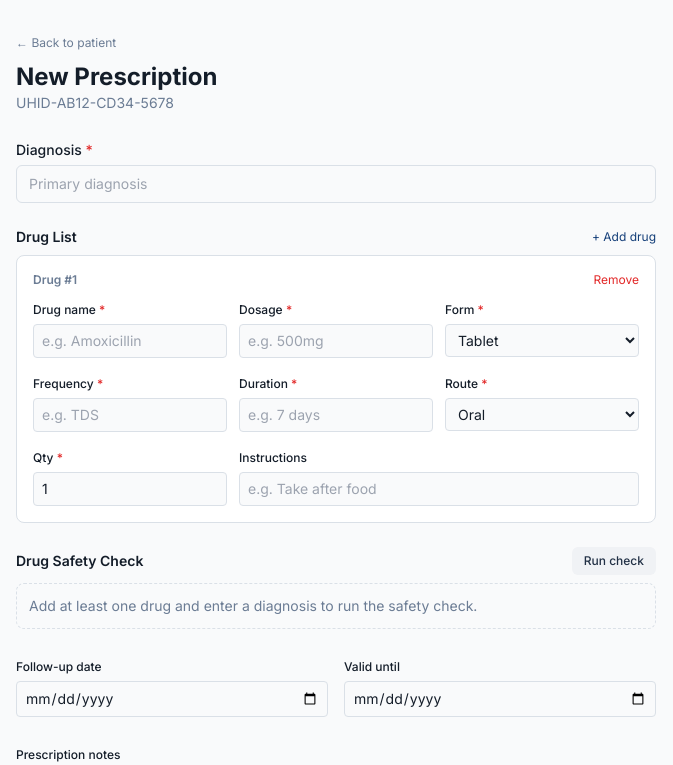
it: NewPrescriptionPage — Pharma-check with issues › shows pharma-issues strip when issues are returned
Type "Warfarin" into the field with test id "drug-name-0". click: (130, 341)
box: [33,324,227,358]
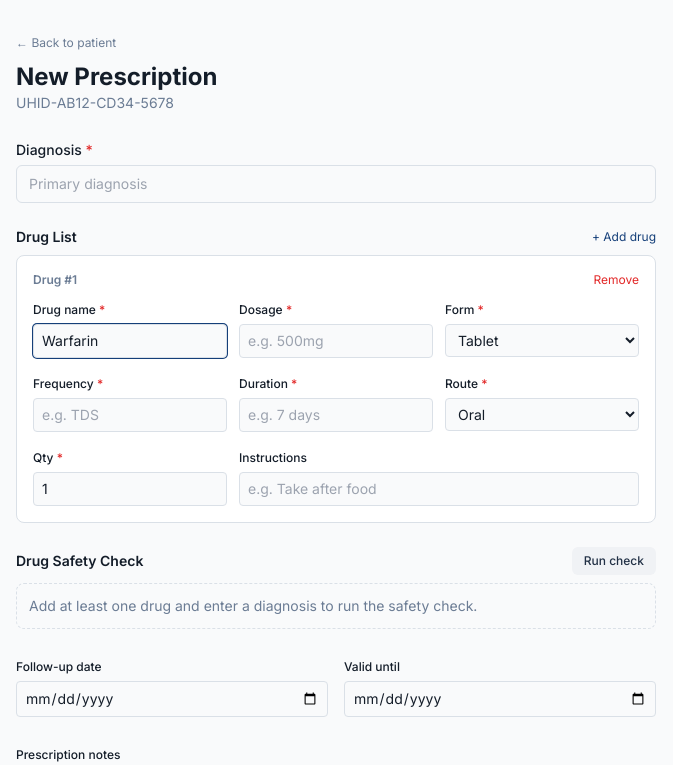
Click the button with test id "run-pharma-check-btn". click: click(614, 561)
box: [572,547,656,575]
(page scrolled)
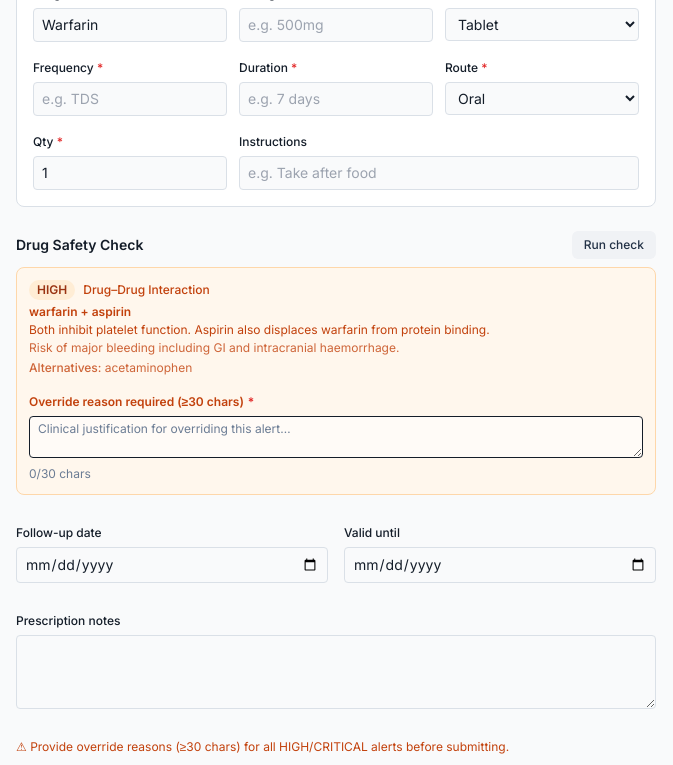
Now the element with test id "pharma-issues" is shown, box [16,267,656,495]
